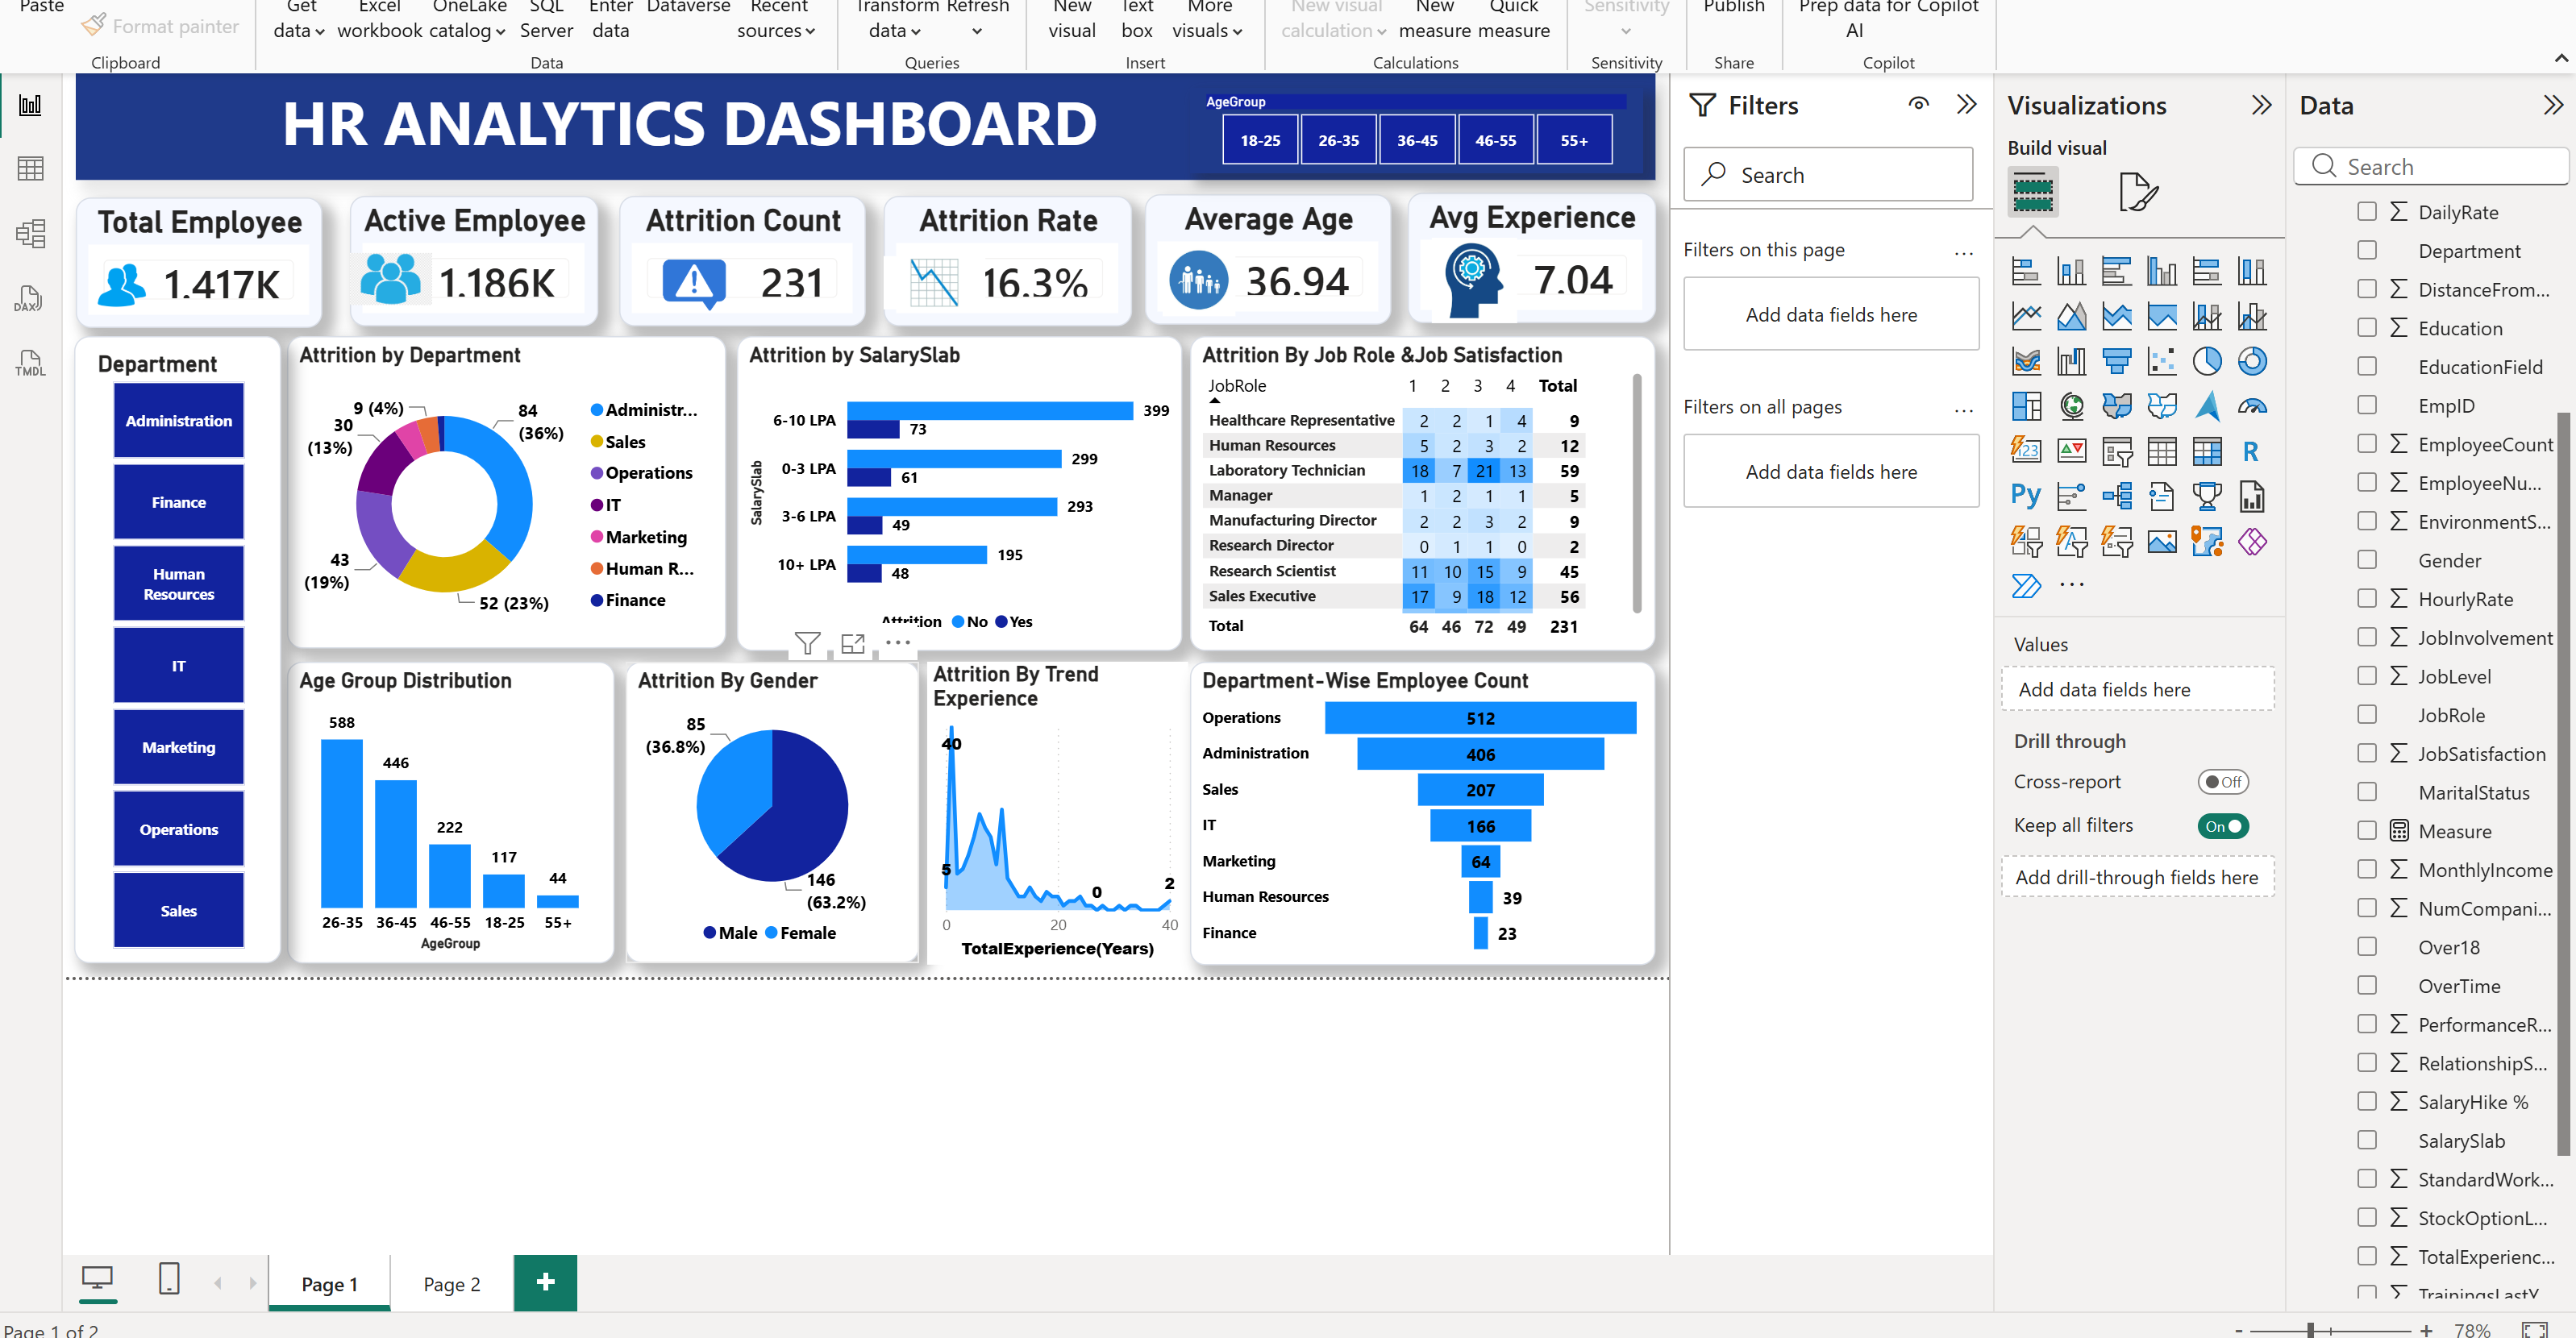

The dashboard page shown, as its layout file describes it:
{"tool":"powerbi","page":{"name":"Page 1","canvas":[1280,720],"ordinal":0},"visuals":[{"type":"textbox","box":[10,0,1259,85],"z":0},{"type":"cardVisual","title":"Total Employee","fields":{"Data":["CountNonNull(HR_Analytics-4.EmpID)"]},"box":[10.3,99,196.6,104.1],"z":1000},{"type":"cardVisual","title":"Active Employee","fields":{"Data":["CountNonNull(HR_Analytics-4.EmployeeCount)"]},"box":[228.8,97.7,197.9,104.1],"z":2000},{"type":"cardVisual","title":"Attrition Count","fields":{"Data":["Sum(HR_Analytics-4.AttritionCount)"]},"box":[443.4,97.7,196.6,104.1],"z":3000},{"type":"cardVisual","title":"Attrition Rate","fields":{"Data":["HR_Analytics-4.Attritin Rate %"]},"box":[654.1,97.7,197.9,104.1],"z":4000},{"type":"cardVisual","title":"Average Age","fields":{"Data":["Avg(HR_Analytics-4.Age)"]},"box":[862.3,96.4,196.6,104.1],"z":5000},{"type":"cardVisual","title":"Avg Experience","fields":{"Data":["Avg(HR_Analytics-4.YearsatCompany)"]},"box":[1071.8,95.1,197.9,104.1],"z":6000},{"type":"image","box":[876.5,133.7,57.8,61.7],"z":7000},{"type":"image","box":[1079.5,131.1,91.2,68.1],"z":8000},{"type":"image","box":[654.1,133.7,81,66.8],"z":9000},{"type":"image","box":[10.3,136.2,73.3,65.5],"z":10000},{"type":"image","box":[465.2,131.1,77.1,75.8],"z":11000},{"type":"image","box":[228.8,136.2,65.5,55.3],"z":12000},{"type":"donutChart","title":"Attrition by Department","fields":{"Category":["HR_Analytics-4.Department"],"Y":["Sum(HR_Analytics-4.AttritionCount)"]},"box":[179,210,350,249],"z":13000},{"type":"clusteredBarChart","title":"Attrition by SalarySlab","fields":{"Category":["HR_Analytics-4.SalarySlab"],"Y":["CountNonNull(HR_Analytics-4.EmpID)"],"Series":["HR_Analytics-4.Attrition"]},"box":[537,209,355,251],"z":14000},{"type":"pivotTable","title":"Attrition By Job Role &Job Satisfaction","fields":{"Rows":["HR_Analytics-4.JobRole"],"Values":["Sum(HR_Analytics-4.AttritionCount)"],"Columns":["HR_Analytics-4.JobSatisfaction"]},"box":[898,209,371,251],"z":15000},{"type":"columnChart","title":" Age Group Distribution","fields":{"Category":["HR_Analytics-4.AgeGroup"],"Y":["Sum(HR_Analytics-4.EmployeeCount)"]},"box":[178.6,469.1,260.9,240.3],"z":16000},{"type":"pieChart","title":"Attrition By Gender","fields":{"Category":["HR_Analytics-4.Gender"],"Y":["Sum(HR_Analytics-4.AttritionCount)"]},"box":[448,469,234,240],"z":17000},{"type":"areaChart","title":"Attrition By Trend Experience","fields":{"Category":["HR_Analytics-4.TotalExperience(Years)"],"Y2":["Sum(HR_Analytics-4.AttritionCount)"]},"box":[689,469.1,208.2,241.6],"z":18000},{"type":"funnel","title":"Department-Wise Employee Count","fields":{"Category":["HR_Analytics-4.Department"],"Y":["CountNonNull(HR_Analytics-4.EmpID)"]},"box":[898,469,371,242],"z":19000},{"type":"slicer","fields":{"Values":["HR_Analytics-4.Department"]},"box":[9,209,165,500],"z":20000},{"type":"slicer","fields":{"Values":["HR_Analytics-4.AgeGroup"]},"box":[898,12,361,68],"z":20001}]}

Visuals, with their boxes on the page's 1280x720 design canvas (x1, y1, x2, y2). These are canvas units, not pixel positions in the 2576x1338 screenshot, which may show the page scaled, cropped or inside an application window:
textbox: {"x1": 10, "y1": 0, "x2": 1269, "y2": 85}
"Total Employee" cardVisual: {"x1": 10, "y1": 99, "x2": 207, "y2": 203}
"Active Employee" cardVisual: {"x1": 229, "y1": 98, "x2": 427, "y2": 202}
"Attrition Count" cardVisual: {"x1": 443, "y1": 98, "x2": 640, "y2": 202}
"Attrition Rate" cardVisual: {"x1": 654, "y1": 98, "x2": 852, "y2": 202}
"Average Age" cardVisual: {"x1": 862, "y1": 96, "x2": 1059, "y2": 200}
"Avg Experience" cardVisual: {"x1": 1072, "y1": 95, "x2": 1270, "y2": 199}
image: {"x1": 876, "y1": 134, "x2": 934, "y2": 195}
image: {"x1": 1080, "y1": 131, "x2": 1171, "y2": 199}
image: {"x1": 654, "y1": 134, "x2": 735, "y2": 200}
image: {"x1": 10, "y1": 136, "x2": 84, "y2": 202}
image: {"x1": 465, "y1": 131, "x2": 542, "y2": 207}
image: {"x1": 229, "y1": 136, "x2": 294, "y2": 192}
"Attrition by Department" donutChart: {"x1": 179, "y1": 210, "x2": 529, "y2": 459}
"Attrition by SalarySlab" clusteredBarChart: {"x1": 537, "y1": 209, "x2": 892, "y2": 460}
"Attrition By Job Role &Job Satisfaction" pivotTable: {"x1": 898, "y1": 209, "x2": 1269, "y2": 460}
" Age Group Distribution" columnChart: {"x1": 179, "y1": 469, "x2": 440, "y2": 709}
"Attrition By Gender" pieChart: {"x1": 448, "y1": 469, "x2": 682, "y2": 709}
"Attrition By Trend Experience" areaChart: {"x1": 689, "y1": 469, "x2": 897, "y2": 711}
"Department-Wise Employee Count" funnel: {"x1": 898, "y1": 469, "x2": 1269, "y2": 711}
slicer - HR_Analytics-4.Department: {"x1": 9, "y1": 209, "x2": 174, "y2": 709}
slicer - HR_Analytics-4.AgeGroup: {"x1": 898, "y1": 12, "x2": 1259, "y2": 80}
